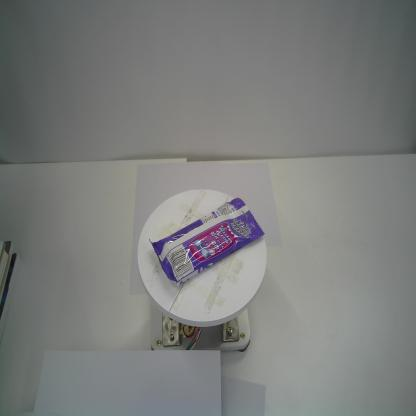Candy: (148, 197, 266, 288)
